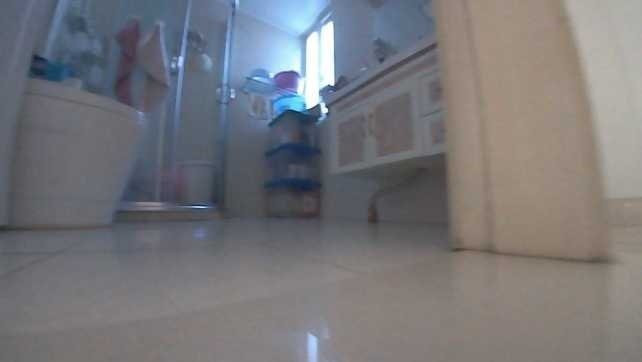toilet: (5, 74, 151, 232)
washstand: (321, 33, 452, 180)
